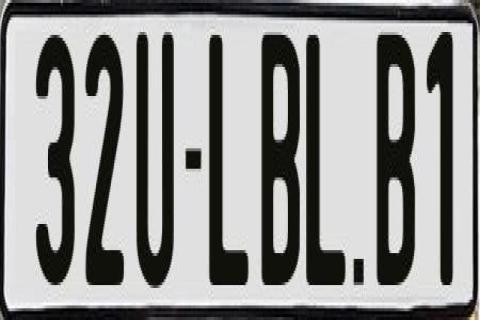0: (85, 26, 126, 276), (35, 32, 74, 285), (424, 32, 456, 302)
B: (261, 27, 305, 286), (374, 29, 415, 288)
L: (206, 32, 249, 294), (306, 35, 348, 291)
U: (134, 26, 174, 282)
